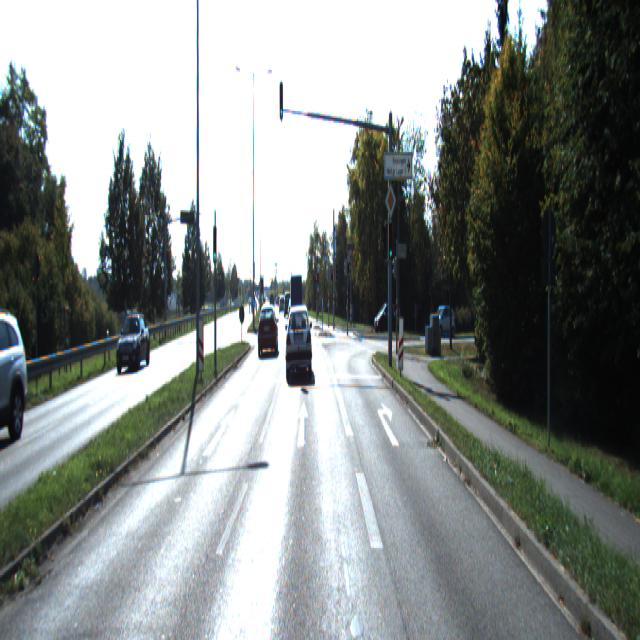Car: (0, 315, 29, 451), (117, 317, 151, 376), (286, 312, 313, 384), (256, 307, 280, 360), (290, 273, 303, 333)
